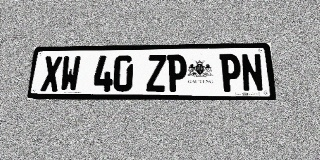0: (113, 55, 133, 92)
4: (93, 55, 114, 92)
N: (240, 53, 264, 92)
P: (219, 54, 242, 92), (167, 54, 187, 92)
W: (59, 56, 81, 92)
X: (40, 56, 62, 92)
Z: (146, 55, 166, 92)
